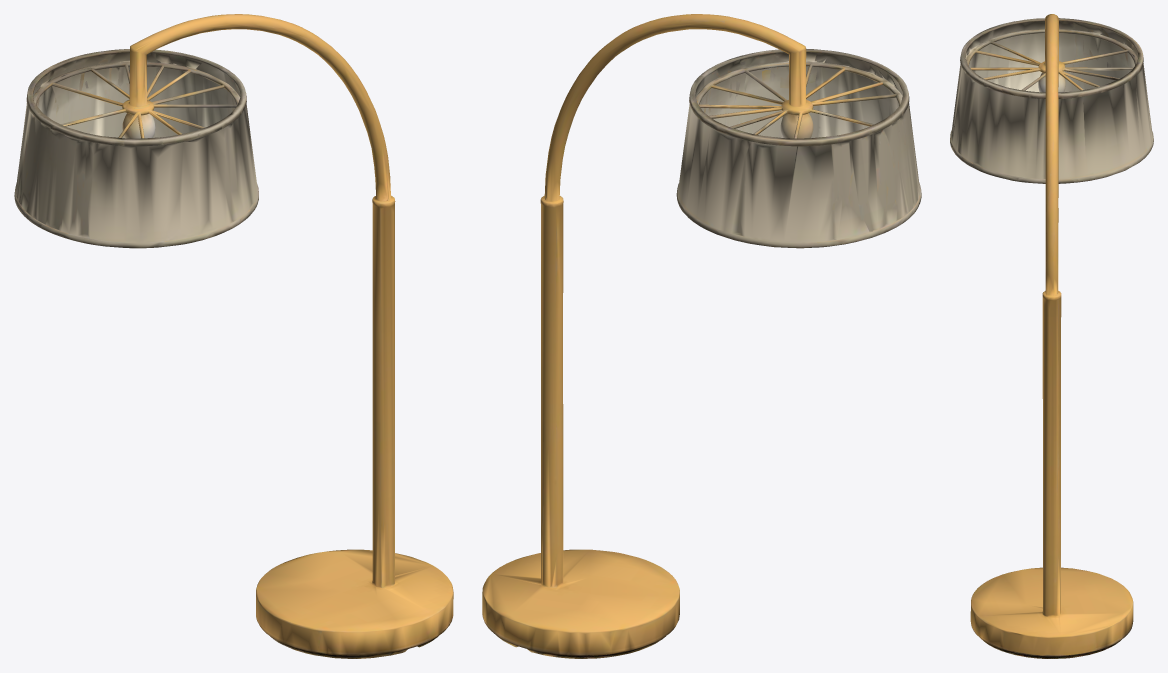
File: floor-lamp2.glb
The picture shows the model from 3 angles, left to right: view 1: azimuth 30°, elevation 25°; view 2: azimuth 150°, elevation 25°; view 3: azimuth 270°, elevation 25°; orthographic projection. The views are drawn at different scales.
Parts seen in each view (by area): view 1: node_0; view 2: node_0; view 3: node_0.
Part boxes in pixels (left/top/right/bottom): node_0: left=14, top=14, right=453, bottom=658; node_0: left=482, top=14, right=921, bottom=658; node_0: left=950, top=14, right=1153, bottom=658.
Size of the model in its own units: 0.6739 by 1.01 by 0.3491.
Materials: 1 (1 with a texture image).
